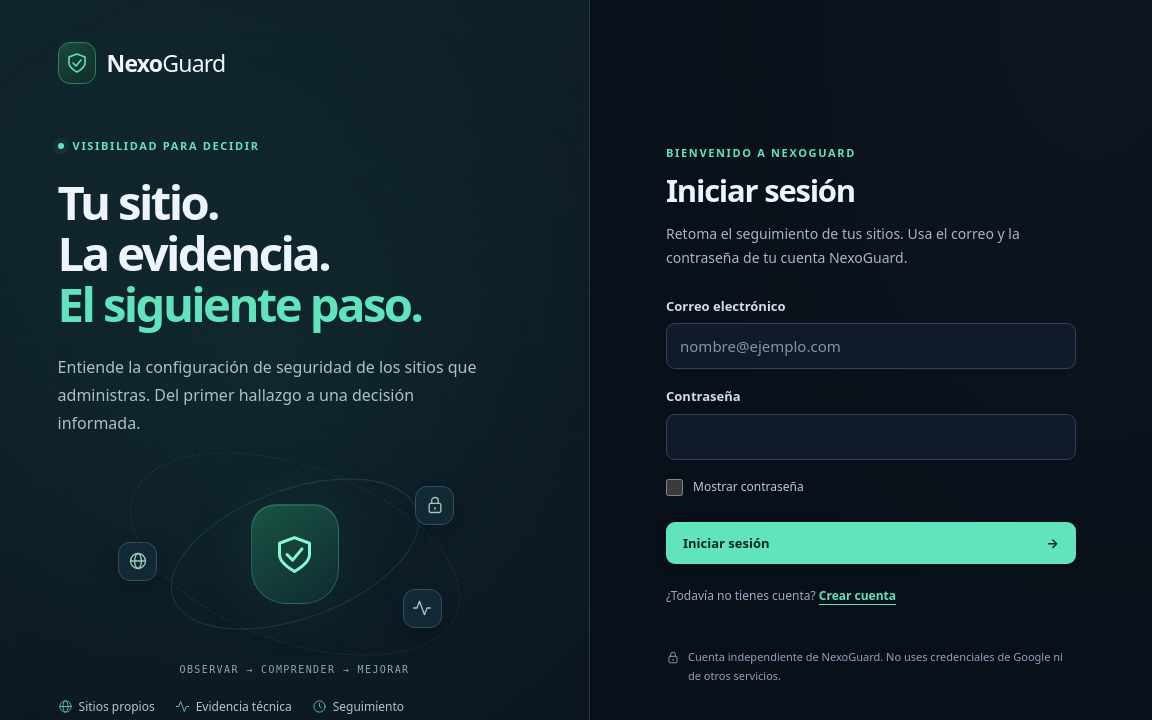
Test: solo anuncia el acceso después de una respuesta de login satisfactoria
In the field labelled "Correo electrónico": (871, 346) [666,323,1076,369], type "user@example.com"
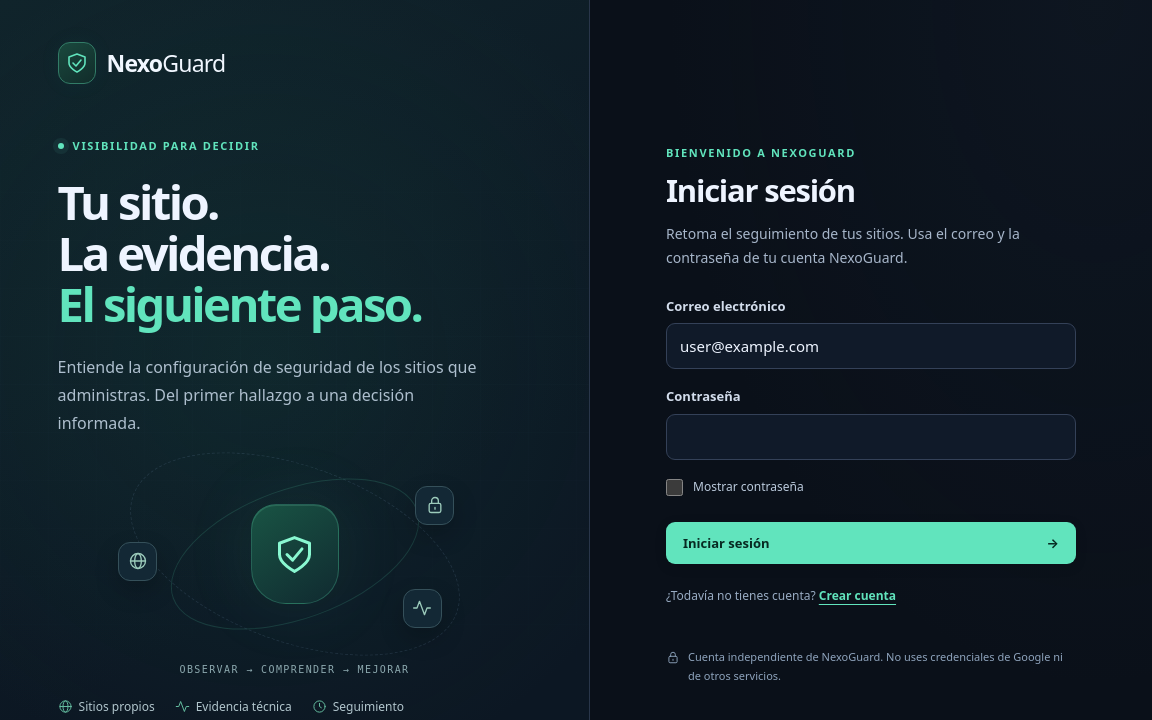
In the password field labelled "Contraseña": (871, 437) [666,414,1076,460], type "clave-ficticia-123"
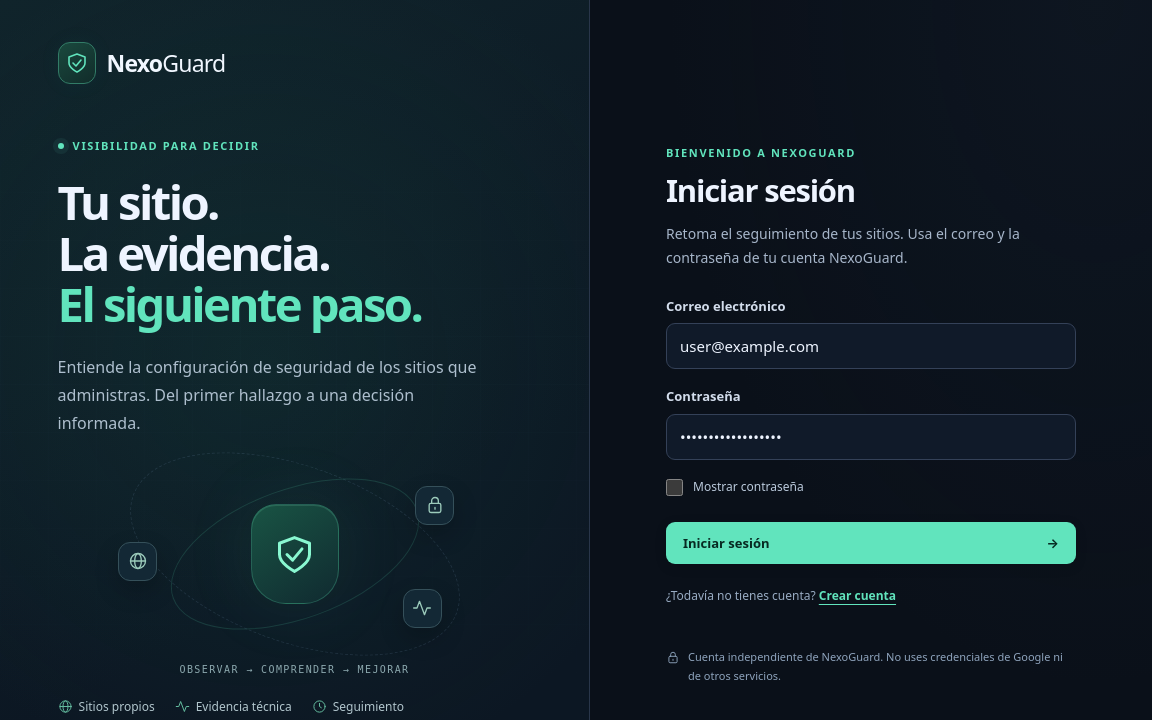
Click the button "Iniciar sesión →": (726, 542) [666,522,1076,564]
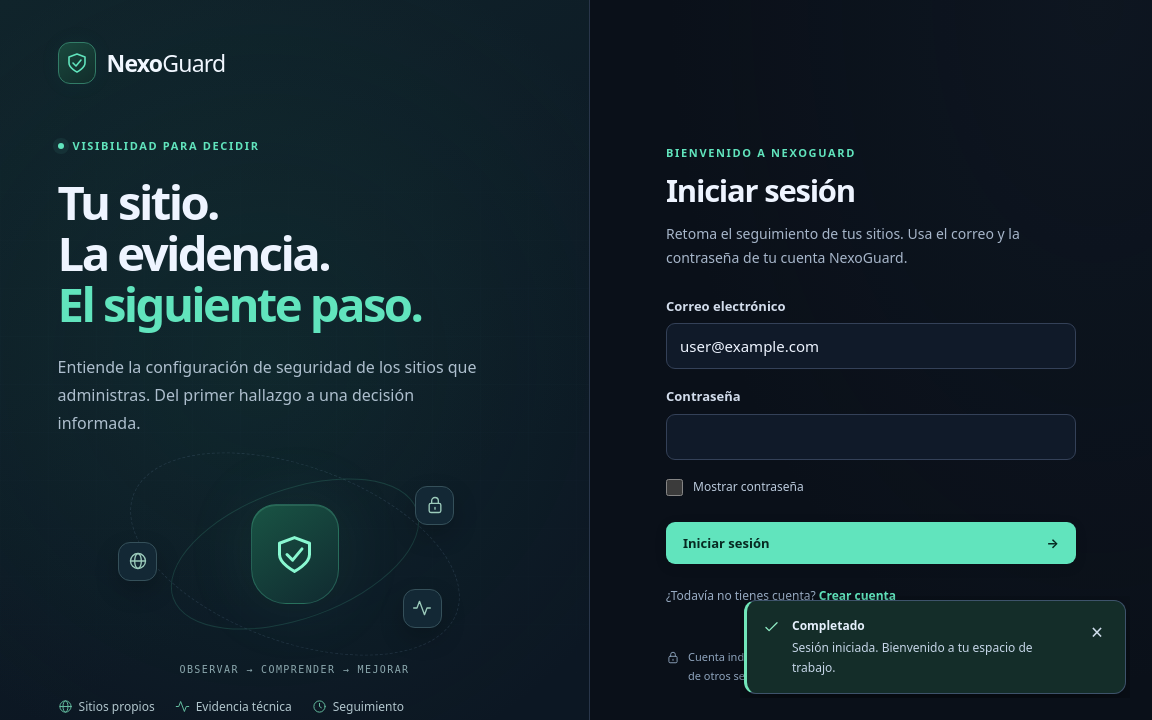
Expected: the text "Sesión iniciada. Bienvenido a tu espacio de trabajo." is shown, [792,638,1070,678]
